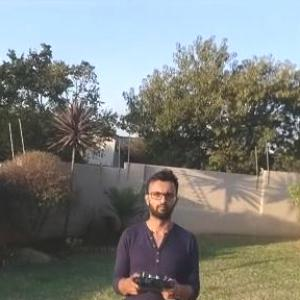follow: (114, 161, 214, 299)
